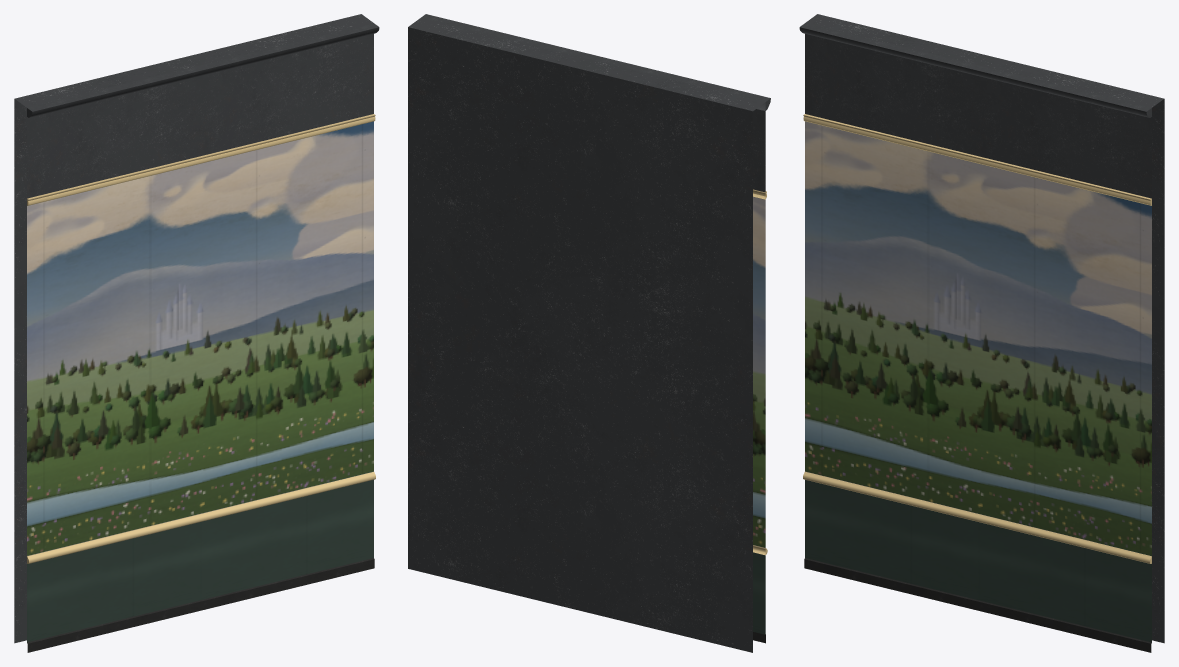
File: SM_QUE_Wall_4m_D.fbx
The picture shows the model from 3 angles, left to right: view 1: azimuth 30°, elevation 25°; view 2: azimuth 150°, elevation 25°; view 3: azimuth 330°, elevation 25°; orthographic projection.
Parts seen in each view (by area): view 1: SM_QUE_Wall_4m_D; view 2: SM_QUE_Wall_4m_D; view 3: SM_QUE_Wall_4m_D.
Boxes of the visible parts, <box> form: SM_QUE_Wall_4m_D: <box>14,14,379,652</box>; SM_QUE_Wall_4m_D: <box>408,14,770,652</box>; SM_QUE_Wall_4m_D: <box>799,14,1164,652</box>.
Size of the model in its own units: 4 by 6 by 0.36.
